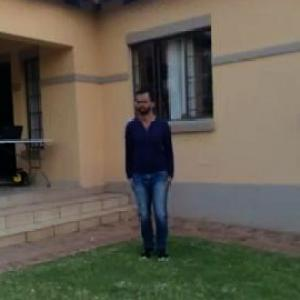follow: (119, 79, 177, 272)
